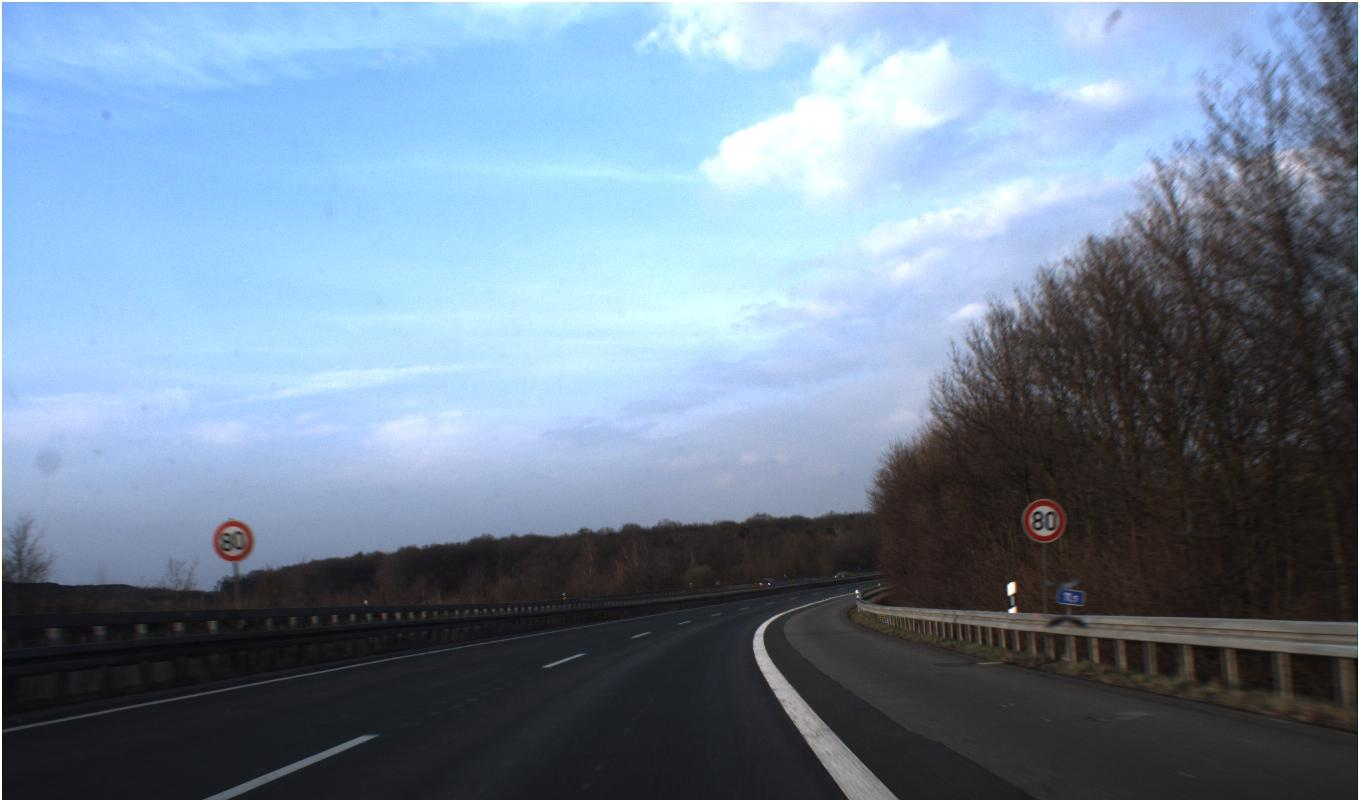prohibitory: (1021, 498, 1066, 544), (213, 519, 254, 561)
